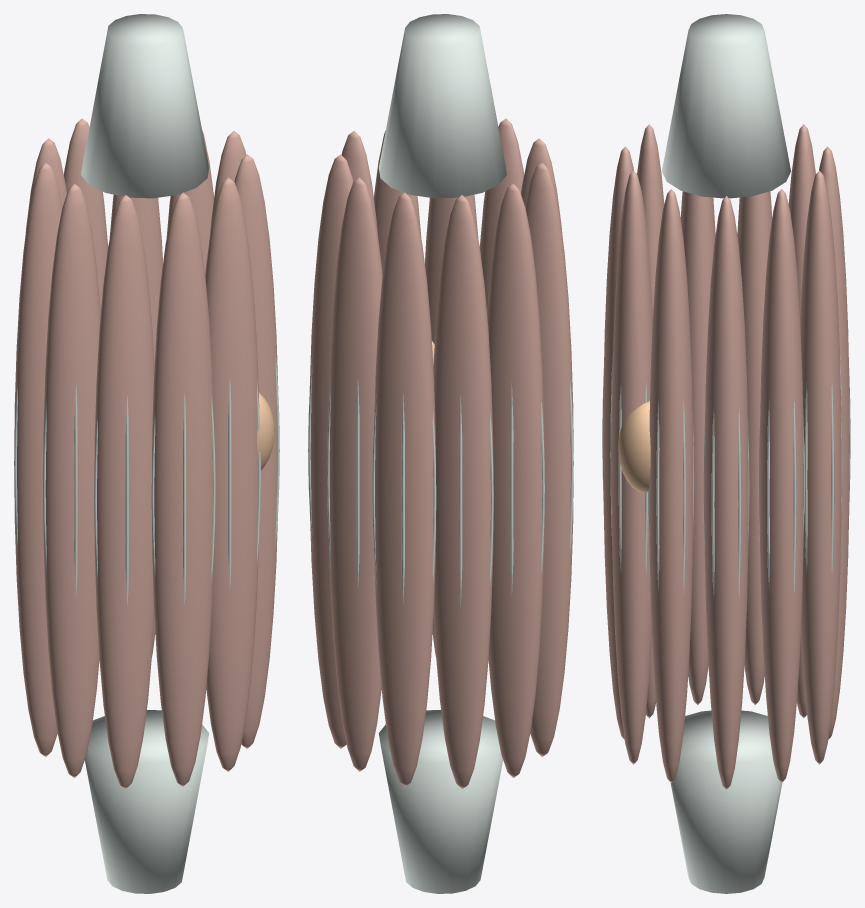
File: muscle-trigger.glb
The picture shows the model from 3 angles, left to right: view 1: azimuth 30°, elevation 25°; view 2: azimuth 150°, elevation 25°; view 3: azimuth 270°, elevation 25°; orthographic projection.
Visible parts, largest first — view 1: static #bb7564, static #c7ddd2, static #f2a066; view 2: static #bb7564, static #c7ddd2; view 3: static #bb7564, static #c7ddd2, static #f2a066.
Boxes of the visible parts, x1,y1,x2,y2 form: static #bb7564: [14, 118, 278, 789]; static #c7ddd2: [14, 14, 279, 893]; static #f2a066: [257, 392, 274, 470]; static #bb7564: [309, 118, 573, 789]; static #c7ddd2: [308, 14, 573, 893]; static #bb7564: [603, 124, 849, 789]; static #c7ddd2: [602, 14, 850, 893]; static #f2a066: [618, 401, 650, 492].
Bounding box in the file's own units: 0.1424 × 0.492 × 0.1306.
